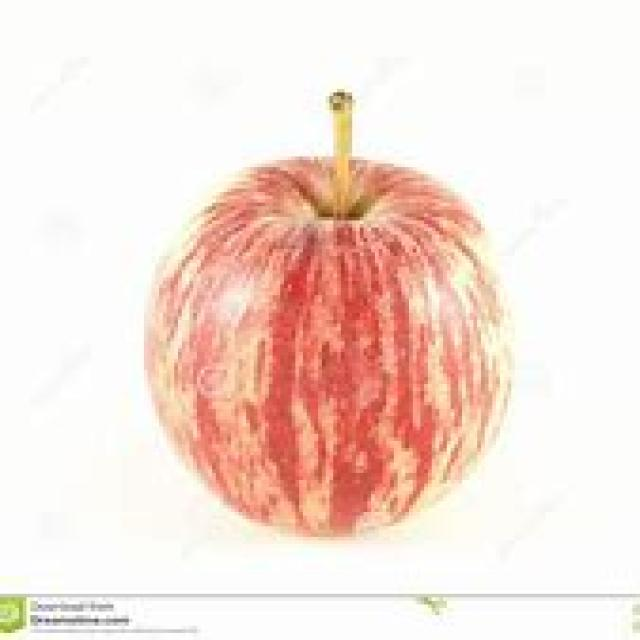apple: (144, 90, 518, 537)
